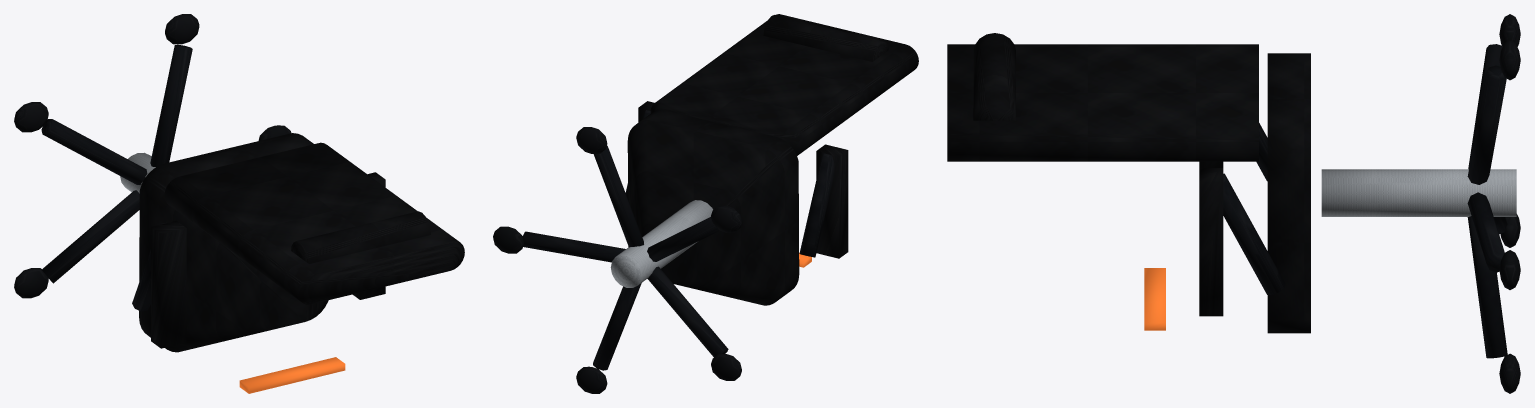
Rendered from RECEPTION_STAFF_CHAIR_001.glb.
3 renders of one model, left to right at view 1: azimuth 30°, elevation 25°; view 2: azimuth 150°, elevation 25°; view 3: azimuth 270°, elevation 25°, orthographic. The views are drawn at different scales.
Parts seen in each view (by area): view 1: back_001, seat_000, armrest_014, headrest_017, star_base_005, star_base_009, star_base_007, front_badge_018, caster_006, caster_008, caster_010, armrest_post_013 (+1 smaller); view 2: seat_000, back_001, gas_lift_002, headrest_017, armrest_014, star_base_009, armrest_post_013, star_base_005, star_base_003, star_base_011, star_base_007, caster_004 (+4 smaller); view 3: back_001, seat_000, gas_lift_002, armrest_016, headrest_017, star_base_005, armrest_post_015, star_base_011, star_base_003, front_badge_018, star_base_007, caster_004 (+3 smaller).
Boxes of the visible parts, <box> form: back_001: <box>164,142,464,304</box>; seat_000: <box>139,133,328,352</box>; armrest_014: <box>151,221,186,348</box>; headrest_017: <box>291,211,430,263</box>; star_base_005: <box>150,44,192,166</box>; star_base_009: <box>41,190,139,283</box>; star_base_007: <box>41,119,147,184</box>; front_badge_018: <box>239,357,345,393</box>; caster_006: <box>165,14,199,44</box>; caster_008: <box>14,102,48,132</box>; caster_010: <box>14,268,48,298</box>; armrest_post_013: <box>132,222,166,311</box>; seat_000: <box>627,109,799,305</box>; back_001: <box>650,14,918,155</box>; gas_lift_002: <box>610,200,712,287</box>; headrest_017: <box>763,15,888,61</box>; armrest_014: <box>816,144,848,258</box>; star_base_009: <box>647,266,728,356</box>; armrest_post_013: <box>799,153,834,257</box>; star_base_005: <box>593,145,643,247</box>; star_base_003: <box>522,231,625,262</box>; star_base_011: <box>593,283,641,370</box>; star_base_007: <box>647,217,719,261</box>; caster_004: <box>493,226,523,253</box>; back_001: <box>947,44,1258,161</box>; seat_000: <box>1267,53,1310,333</box>; gas_lift_002: <box>1321,169,1516,216</box>; armrest_016: <box>1199,168,1223,316</box>; headrest_017: <box>973,33,1015,120</box>; star_base_005: <box>1467,65,1506,184</box>; armrest_post_015: <box>1223,173,1285,295</box>; star_base_011: <box>1467,216,1507,358</box>; star_base_003: <box>1467,192,1504,272</box>; front_badge_018: <box>1144,268,1165,330</box>; star_base_007: <box>1468,44,1502,169</box>; caster_004: <box>1499,250,1520,289</box>.
Bounding box in the file's own units: 0.8678 × 0.8889 × 1.32.
Materials: 5 (5 with a texture image).
